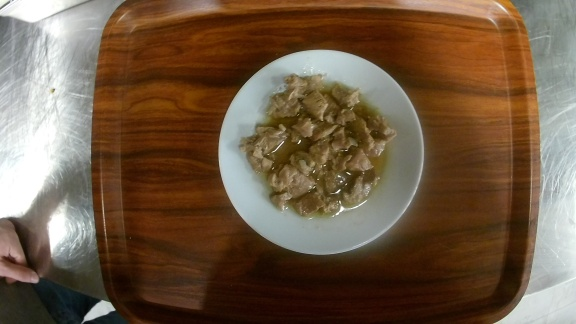etsote: (215, 48, 426, 257)
